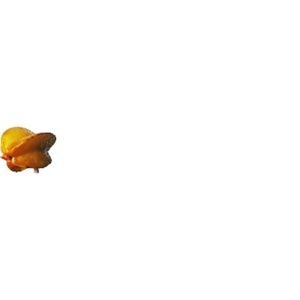carambola: (1, 127, 57, 174)
